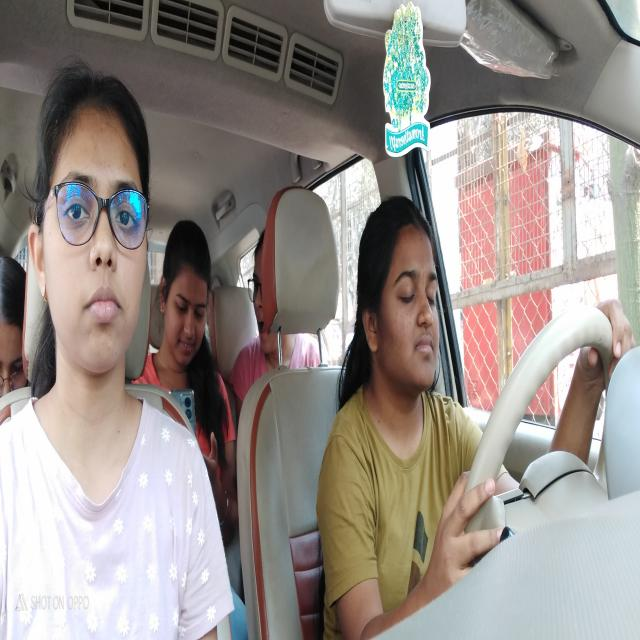drowsy: (348, 191, 442, 395)
person: (37, 68, 154, 374), (158, 218, 214, 377), (244, 225, 286, 361), (1, 250, 29, 402)
